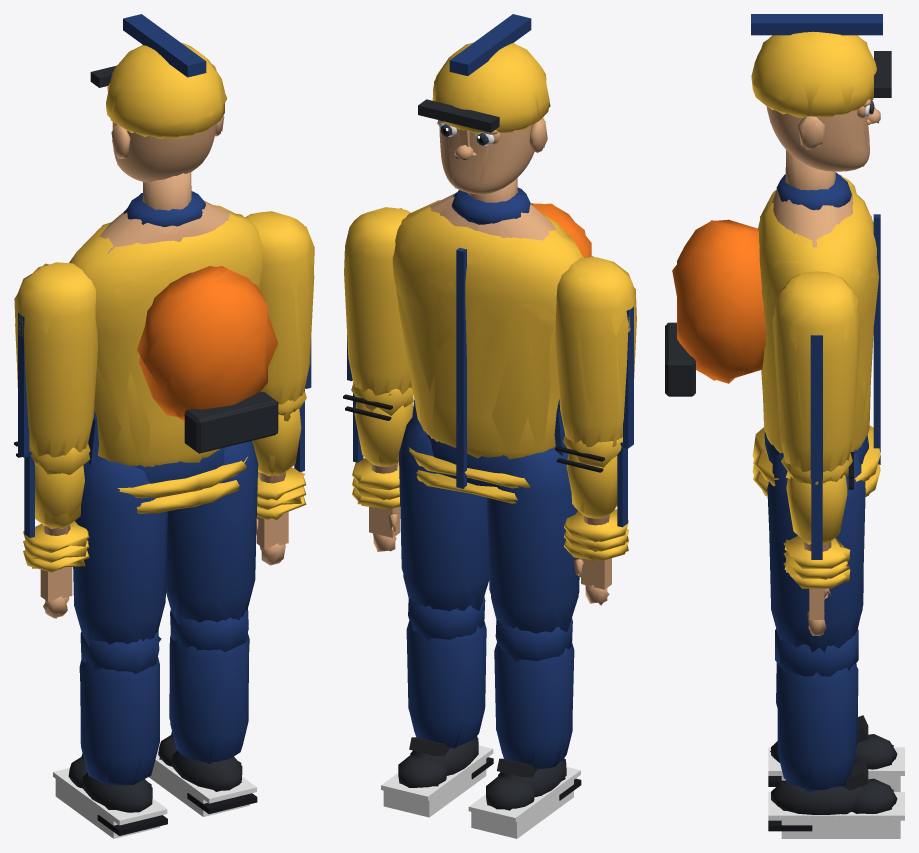
File: char_gold.glb
3 views of the same model, side by side, from view 1: azimuth 30°, elevation 25°; view 2: azimuth 150°, elevation 25°; view 3: azimuth 270°, elevation 25° (orthographic). The views are drawn at different scales.
Visible parts, largest first — view 1: lod_low, torso_jacket, leg_L_pant, arm_L_sleeve, leg_R_pant, torso_d_ff7a1a, arm_R_sleeve, head_helmet, shin_R_pant, shin_L_pant, torso_d_23262c, head_skull (+24 smaller); view 2: lod_low, torso_jacket, leg_L_pant, arm_L_sleeve, leg_R_pant, arm_R_sleeve, shin_L_pant, shin_R_pant, head_helmet, head_skull, torso_d_top2, shin_L_d_23262c (+24 smaller); view 3: lod_low, arm_R_sleeve, torso_jacket, leg_R_pant, torso_d_ff7a1a, head_helmet, shin_R_pant, head_skull, shin_R_d_23262c, forearm_R_sleeve, shin_R_d_pants, arm_R_d_top2 (+17 smaller).
Boxes of the visible parts, box(x1,y1,x2,y2) form: lod_low: box(14, 14, 314, 838); torso_jacket: box(69, 205, 262, 466); leg_L_pant: box(73, 456, 167, 644); arm_L_sleeve: box(15, 262, 97, 465); leg_R_pant: box(166, 441, 257, 622); torso_d_ff7a1a: box(139, 266, 267, 418); arm_R_sleeve: box(245, 211, 314, 413); head_helmet: box(106, 42, 224, 138); shin_R_pant: box(169, 637, 249, 762); shin_L_pant: box(80, 657, 159, 783); torso_d_23262c: box(184, 391, 278, 453); head_skull: box(112, 122, 216, 182); lod_low: box(345, 14, 635, 838); torso_jacket: box(392, 200, 583, 458); leg_L_pant: box(487, 447, 579, 633); arm_L_sleeve: box(555, 257, 636, 447); leg_R_pant: box(399, 418, 488, 611); arm_R_sleeve: box(344, 207, 412, 395); shin_L_pant: box(496, 642, 573, 767); shin_R_pant: box(409, 623, 485, 746); head_helmet: box(433, 42, 549, 133); head_skull: box(439, 125, 534, 194); torso_d_top2: box(412, 247, 566, 488); shin_L_d_23262c: box(486, 758, 566, 809); lod_low: box(666, 14, 900, 838); arm_R_sleeve: box(774, 271, 859, 484); torso_jacket: box(757, 189, 876, 453); leg_R_pant: box(768, 453, 865, 652); torso_d_ff7a1a: box(677, 219, 765, 383); head_helmet: box(751, 31, 876, 117); shin_R_pant: box(777, 663, 856, 790); head_skull: box(766, 106, 869, 171); shin_R_d_23262c: box(771, 760, 897, 814); forearm_R_sleeve: box(786, 475, 847, 544); shin_R_d_pants: box(775, 629, 858, 676); arm_R_d_top2: box(810, 335, 822, 478).
Bounding box in the file's own units: 0.7703 × 1.97 × 0.545.
